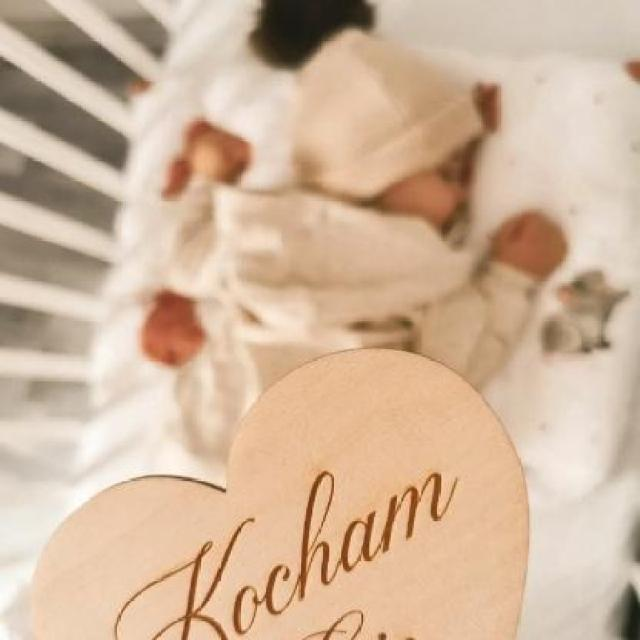baby: (163, 26, 565, 392)
